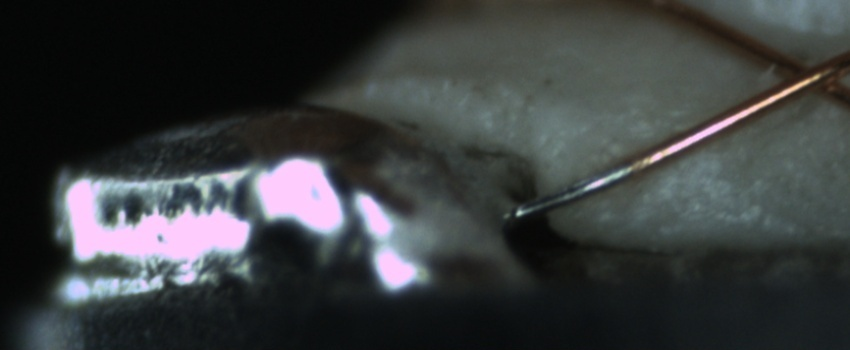CL: (753, 39, 849, 108)
TS: (508, 160, 635, 221)
